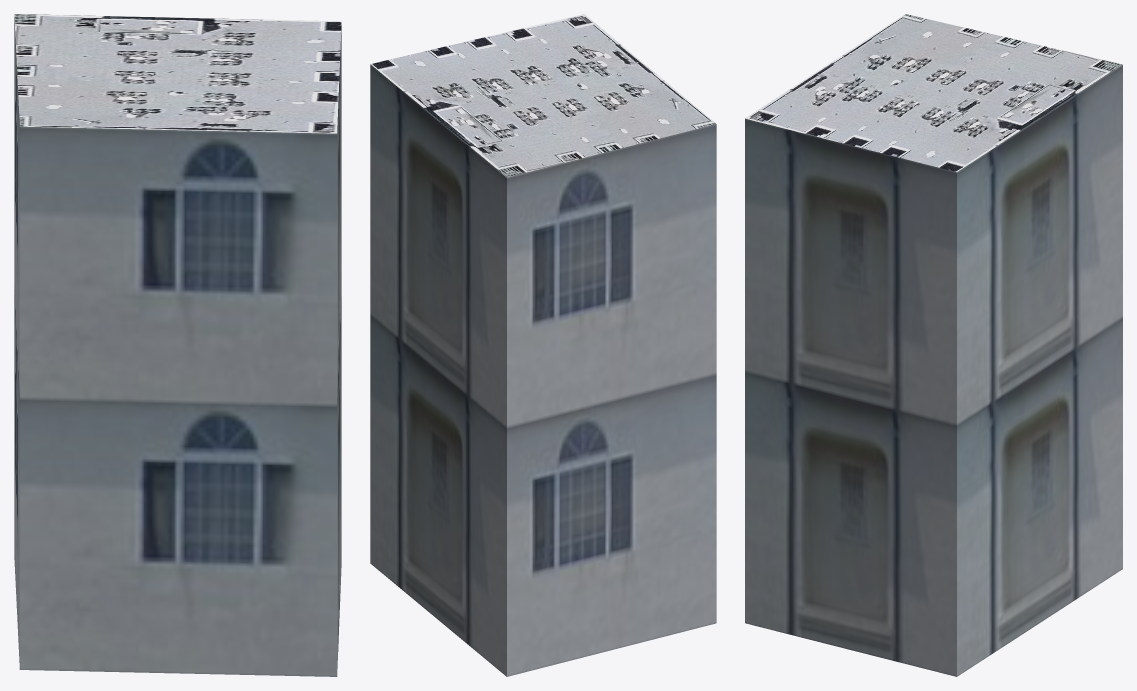
Rendered from ResTex__721.fbx.
3 views of the same model, side by side, from view 1: azimuth 30°, elevation 25°; view 2: azimuth 150°, elevation 25°; view 3: azimuth 270°, elevation 25° (orthographic). The views are drawn at different scales.
Visible parts, largest first — view 1: CityEngineMaterial_17_m, CityEngineMaterial_4_m; view 2: CityEngineMaterial_17_m, CityEngineMaterial_4_m; view 3: CityEngineMaterial_17_m, CityEngineMaterial_4_m.
Part boxes in pixels (x1,y1,x2,y2): CityEngineMaterial_17_m: (14,17,341,676); CityEngineMaterial_4_m: (14,14,341,133); CityEngineMaterial_17_m: (370,64,716,676); CityEngineMaterial_4_m: (370,14,715,177); CityEngineMaterial_17_m: (745,64,1122,676); CityEngineMaterial_4_m: (745,14,1122,172).
Size of the model in its own units: 4.04 by 6 by 4.07.
2 materials, 2 textured.
